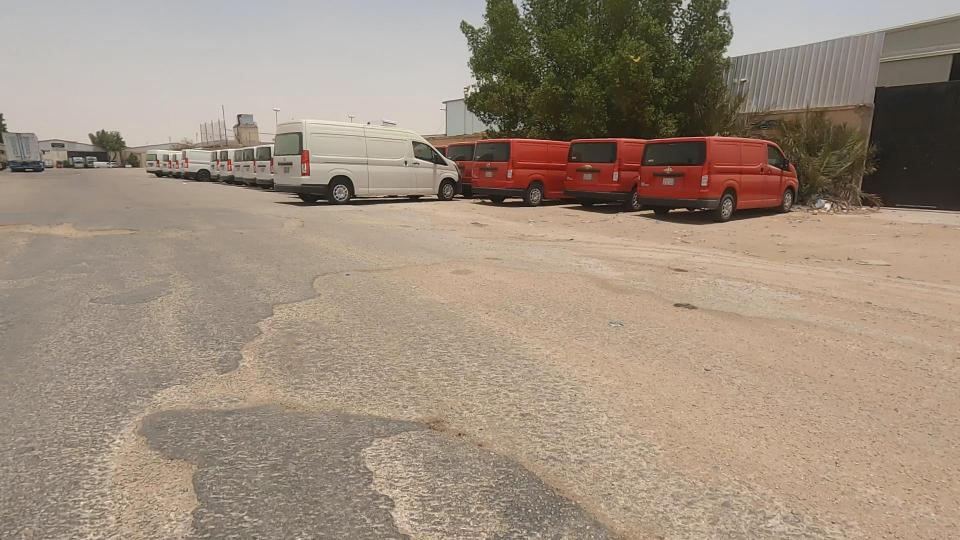GARBAGE: (779, 178, 878, 239)
POTHOLES: (132, 274, 466, 534), (263, 368, 673, 540), (0, 190, 214, 273), (637, 260, 728, 352), (225, 196, 339, 262)
